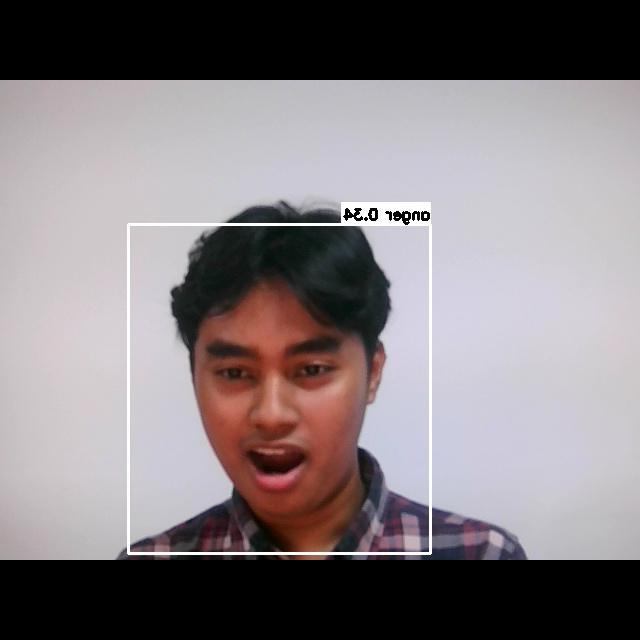Surprised: (179, 301, 374, 501)
